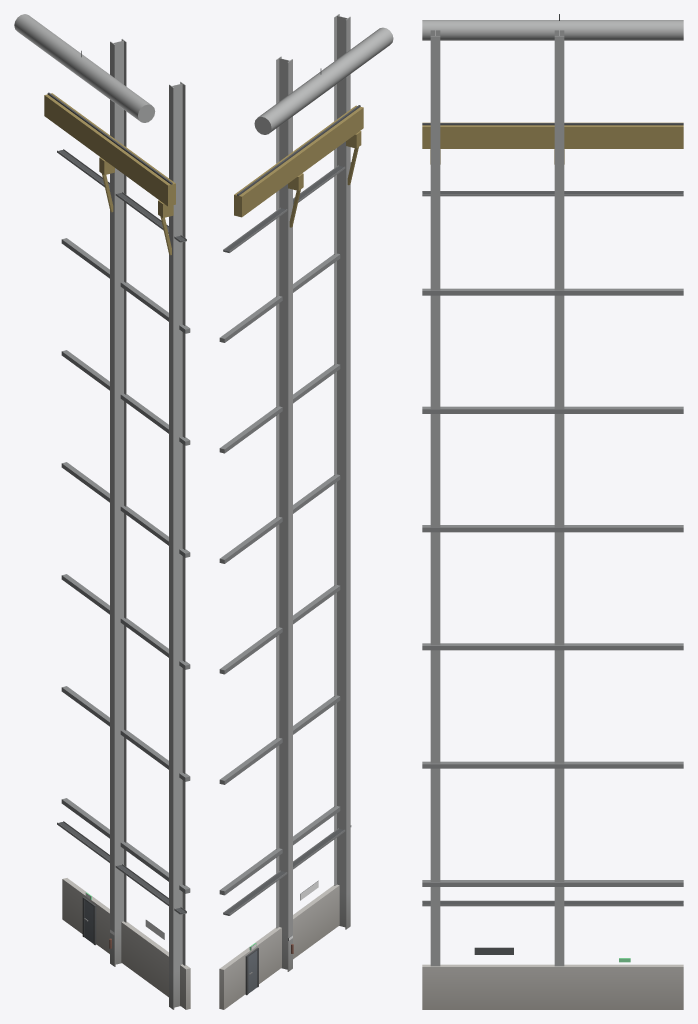
File: wall_e_s.glb
The picture shows the model from 3 angles, left to right: view 1: azimuth 30°, elevation 25°; view 2: azimuth 150°, elevation 25°; view 3: azimuth 270°, elevation 25°; orthographic projection. The views are drawn at different scales.
Parts seen in each view (by area): view 1: wall_e_s; view 2: wall_e_s; view 3: wall_e_s.
Part boxes in pixels (left/top/right/bottom): wall_e_s: left=14, top=14, right=190, bottom=1009; wall_e_s: left=219, top=14, right=393, bottom=1009; wall_e_s: left=422, top=14, right=683, bottom=1009.
Bounding box in the file's own units: 3.95 × 65.85 × 16.
